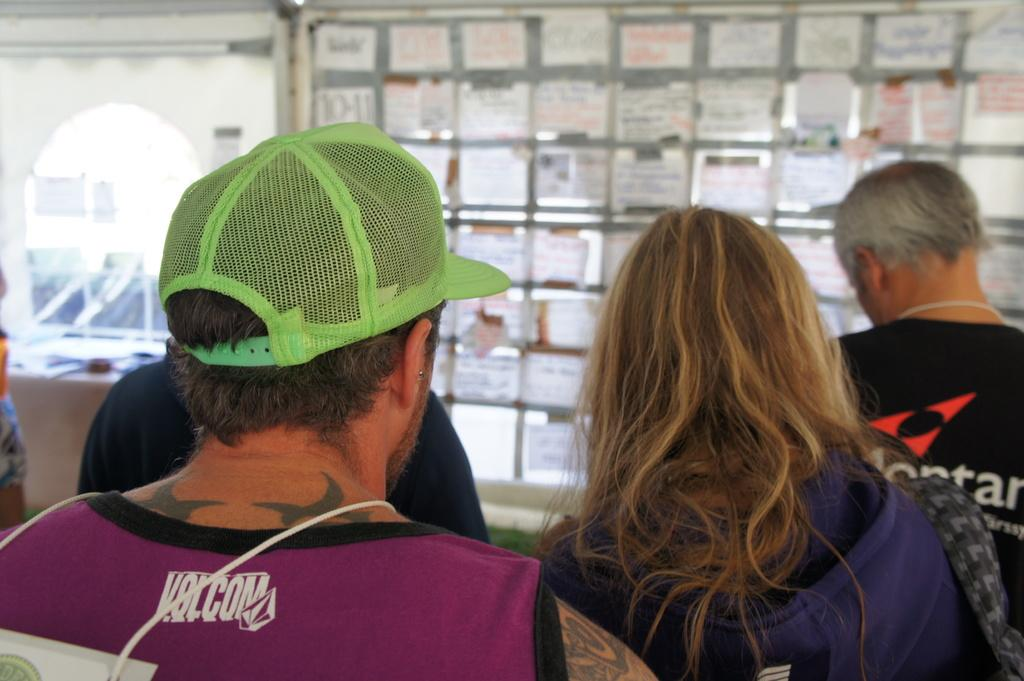Hat: (154, 117, 514, 367)
